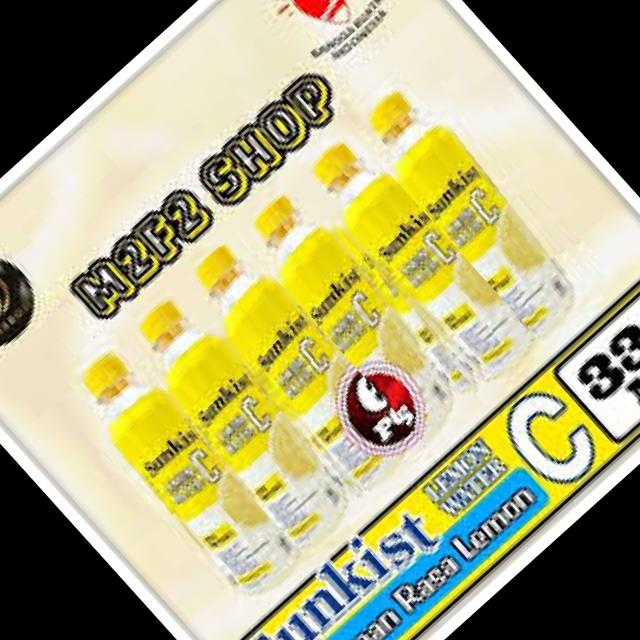plastic bottle: (345, 52, 625, 346), (55, 322, 332, 614), (238, 170, 512, 458), (116, 279, 383, 560), (177, 223, 441, 502), (286, 115, 544, 388)
